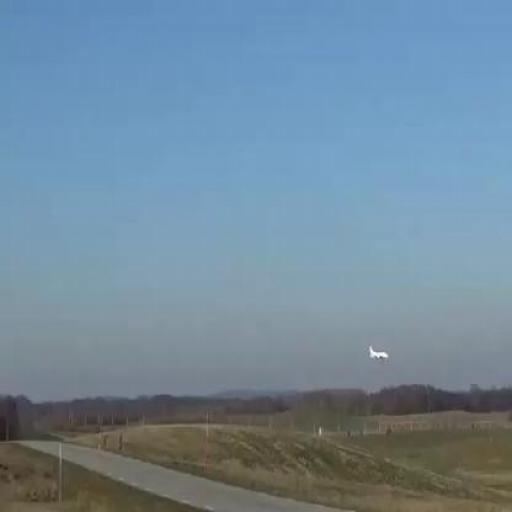aircraft: (368, 344, 389, 360)
